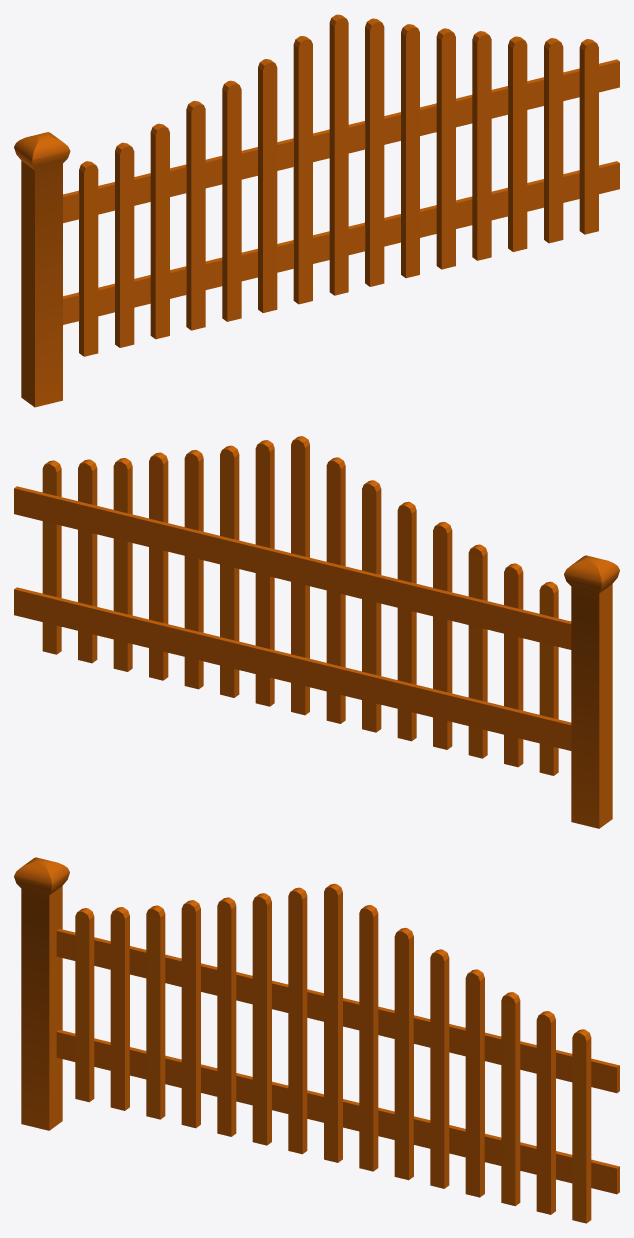
File: Fence_4.1.fbx
3 renders of one model, top to bottom at view 1: azimuth 30°, elevation 25°; view 2: azimuth 150°, elevation 25°; view 3: azimuth 330°, elevation 25°, orthographic.
Visible parts, largest first — view 1: Fence_4.2; view 2: Fence_4.2; view 3: Fence_4.2.
Boxes of the visible parts, bbox=[...] form: Fence_4.2: bbox=[14, 14, 619, 407]; Fence_4.2: bbox=[14, 436, 619, 828]; Fence_4.2: bbox=[14, 857, 619, 1223].
Size of the model in its own units: 305 by 152 by 16.06.
Materials: 1 (1 with a texture image).
